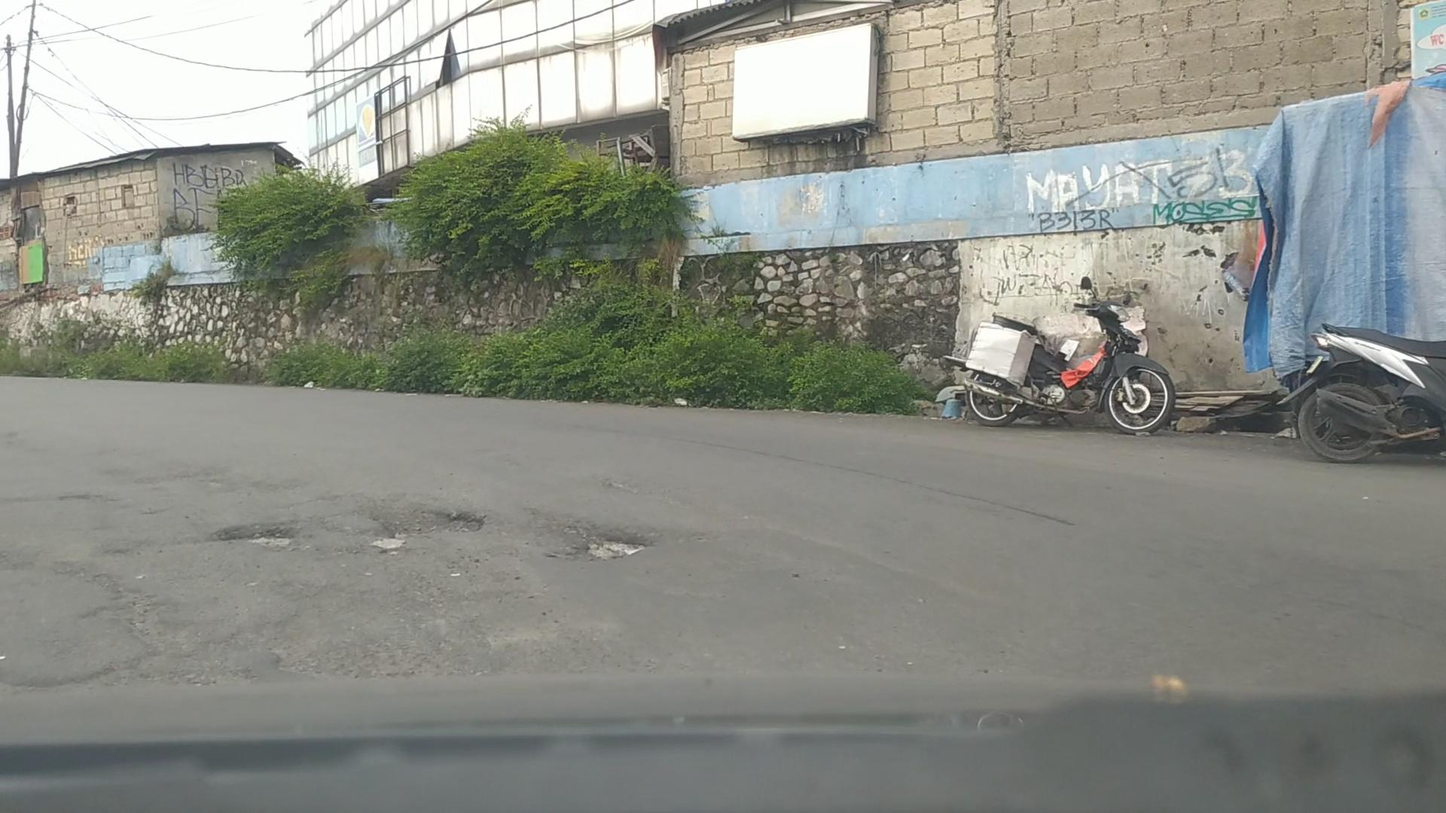pothole: (365, 507, 482, 543), (565, 514, 649, 561), (220, 523, 293, 547)
